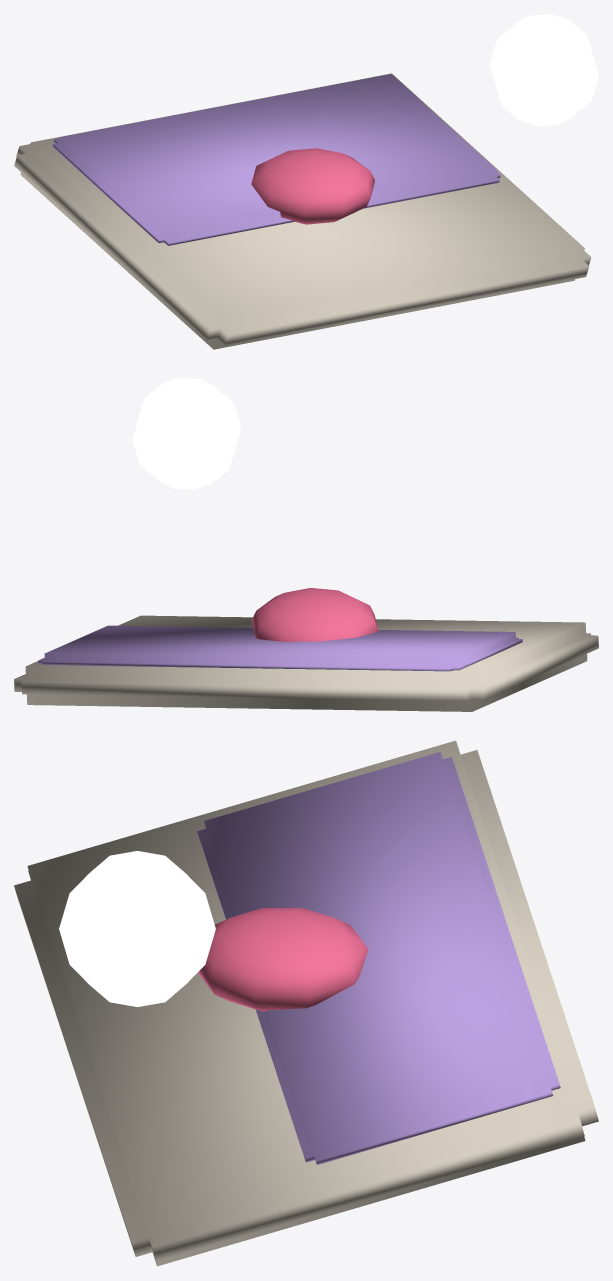
File: FloristCard.fbx
3 renders of one model, top to bottom at view 1: azimuth 30°, elevation 25°; view 2: azimuth 150°, elevation 25°; view 3: azimuth 270°, elevation 25°, orthographic. The views are drawn at different scales.
Visible parts, largest first — view 1: FloristCard; view 2: FloristCard; view 3: FloristCard.
Boxes of the visible parts, x1,y1,x2,y2 form: FloristCard: (14,14,598,349); FloristCard: (14,378,598,711); FloristCard: (14,740,598,1266).
Size of the model in its own units: 0.6193 by 0.3503 by 0.4846.
